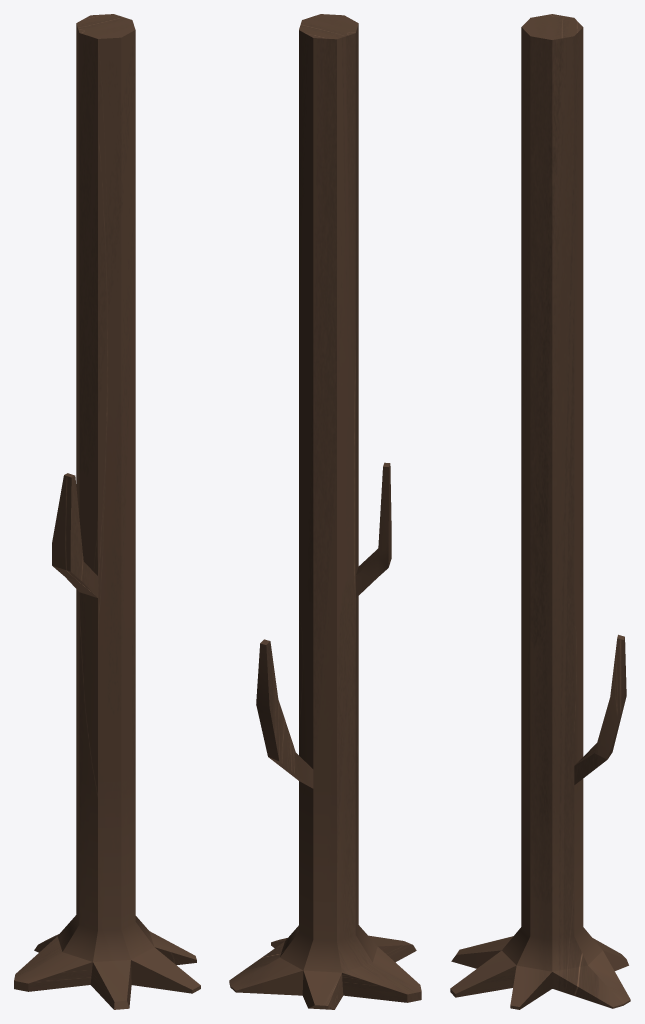
Rendered from tree01.fbx.
3 renders of one model, left to right at view 1: azimuth 30°, elevation 25°; view 2: azimuth 150°, elevation 25°; view 3: azimuth 270°, elevation 25°, orthographic.
Visible parts, largest first — view 1: tree01; view 2: tree01; view 3: tree01.
Part boxes in pixels (x1,y1,x2,y2): tree01: (14, 14, 200, 1009); tree01: (229, 14, 421, 1009); tree01: (450, 14, 630, 1009).
Bounding box in the file's own units: 2.74 × 14.9 × 2.57.
